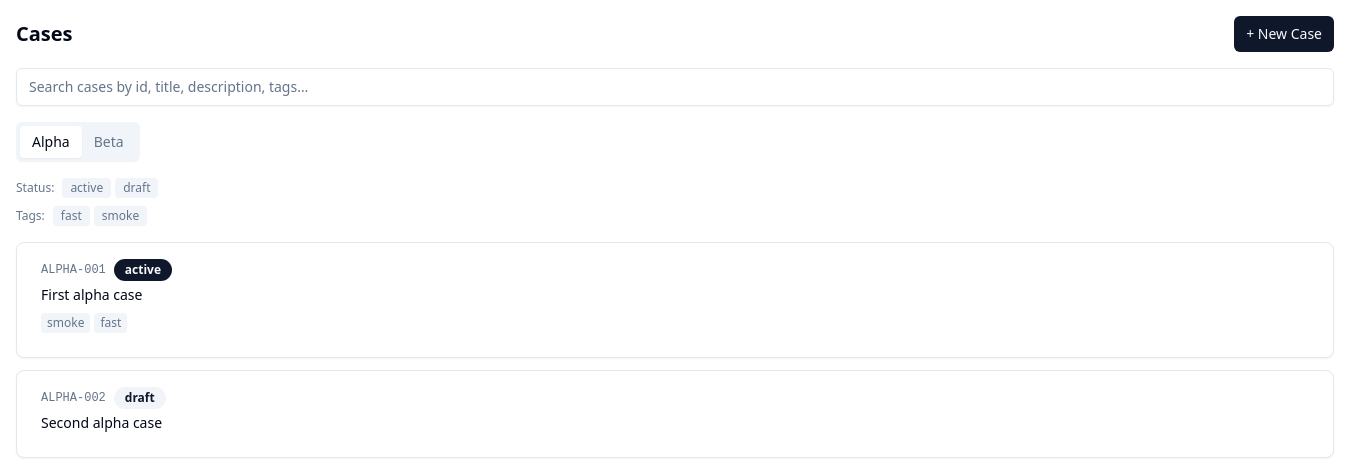
CasesPage › tag chip multi-select: OR filter hides cases that do not match any selected tag
Expected: the element with test id "case-card-ALPHA-001" is shown, [16,242,1334,358]
Expected: the element with test id "case-card-ALPHA-002" is shown, [16,370,1334,458]
Click the button with test id "cases-tag-filter-smoke".
click(120, 216)  # box [94,206,147,226]
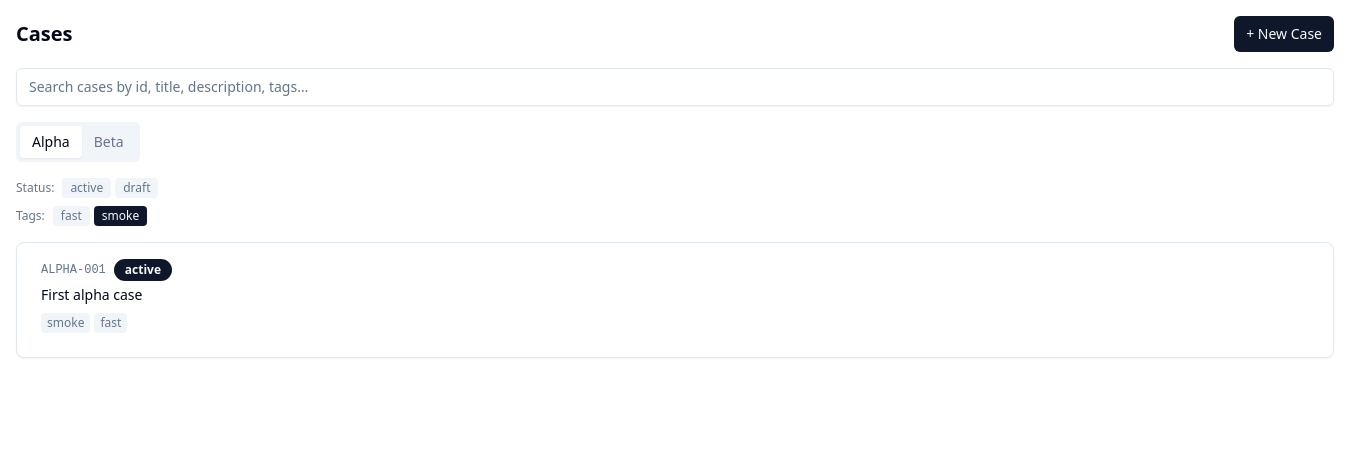
Expected: the element with test id "case-card-ALPHA-001" is shown, [16,242,1334,358]
Expected: the element with test id "case-card-ALPHA-002" is gone
